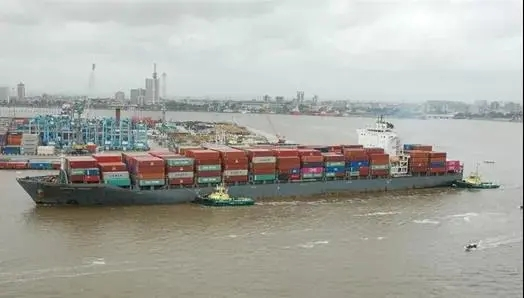Cargoship: (20, 118, 464, 208)
otherboat: (188, 182, 254, 205), (455, 166, 503, 189)
